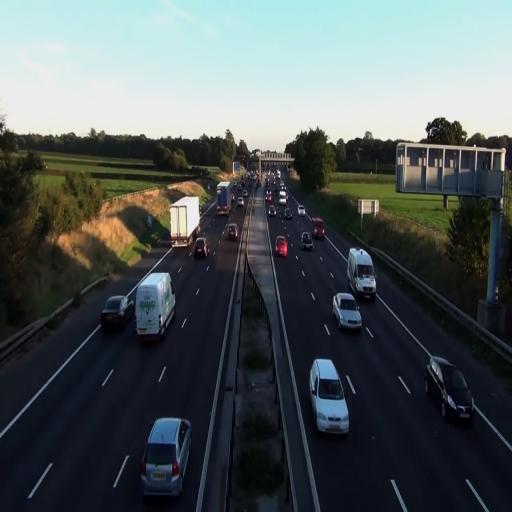vehicle: (140, 415, 192, 500), (425, 355, 474, 426), (310, 358, 350, 436), (134, 270, 176, 344), (134, 270, 176, 343), (170, 196, 200, 252), (347, 248, 377, 303), (346, 248, 376, 303), (332, 291, 362, 333), (100, 295, 132, 333), (215, 181, 235, 217), (222, 222, 240, 242), (193, 236, 208, 260), (275, 234, 288, 258), (312, 216, 325, 239), (300, 229, 314, 250)
